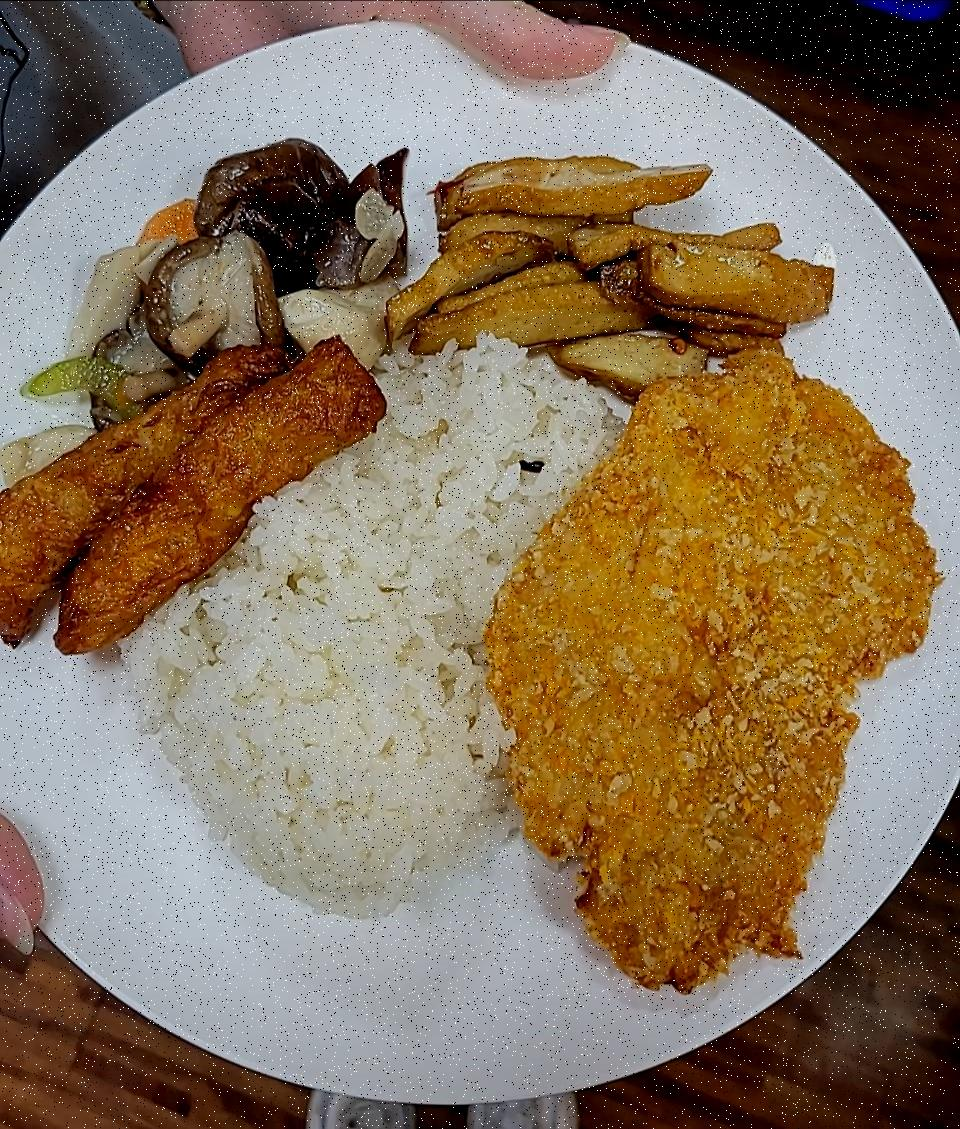chicken steak: (473, 358, 943, 993)
plate: (0, 18, 960, 1119)
shrimp rolls: (0, 313, 390, 653)
side dish: (365, 148, 846, 396), (54, 121, 426, 416)
white rice: (107, 340, 636, 930)
